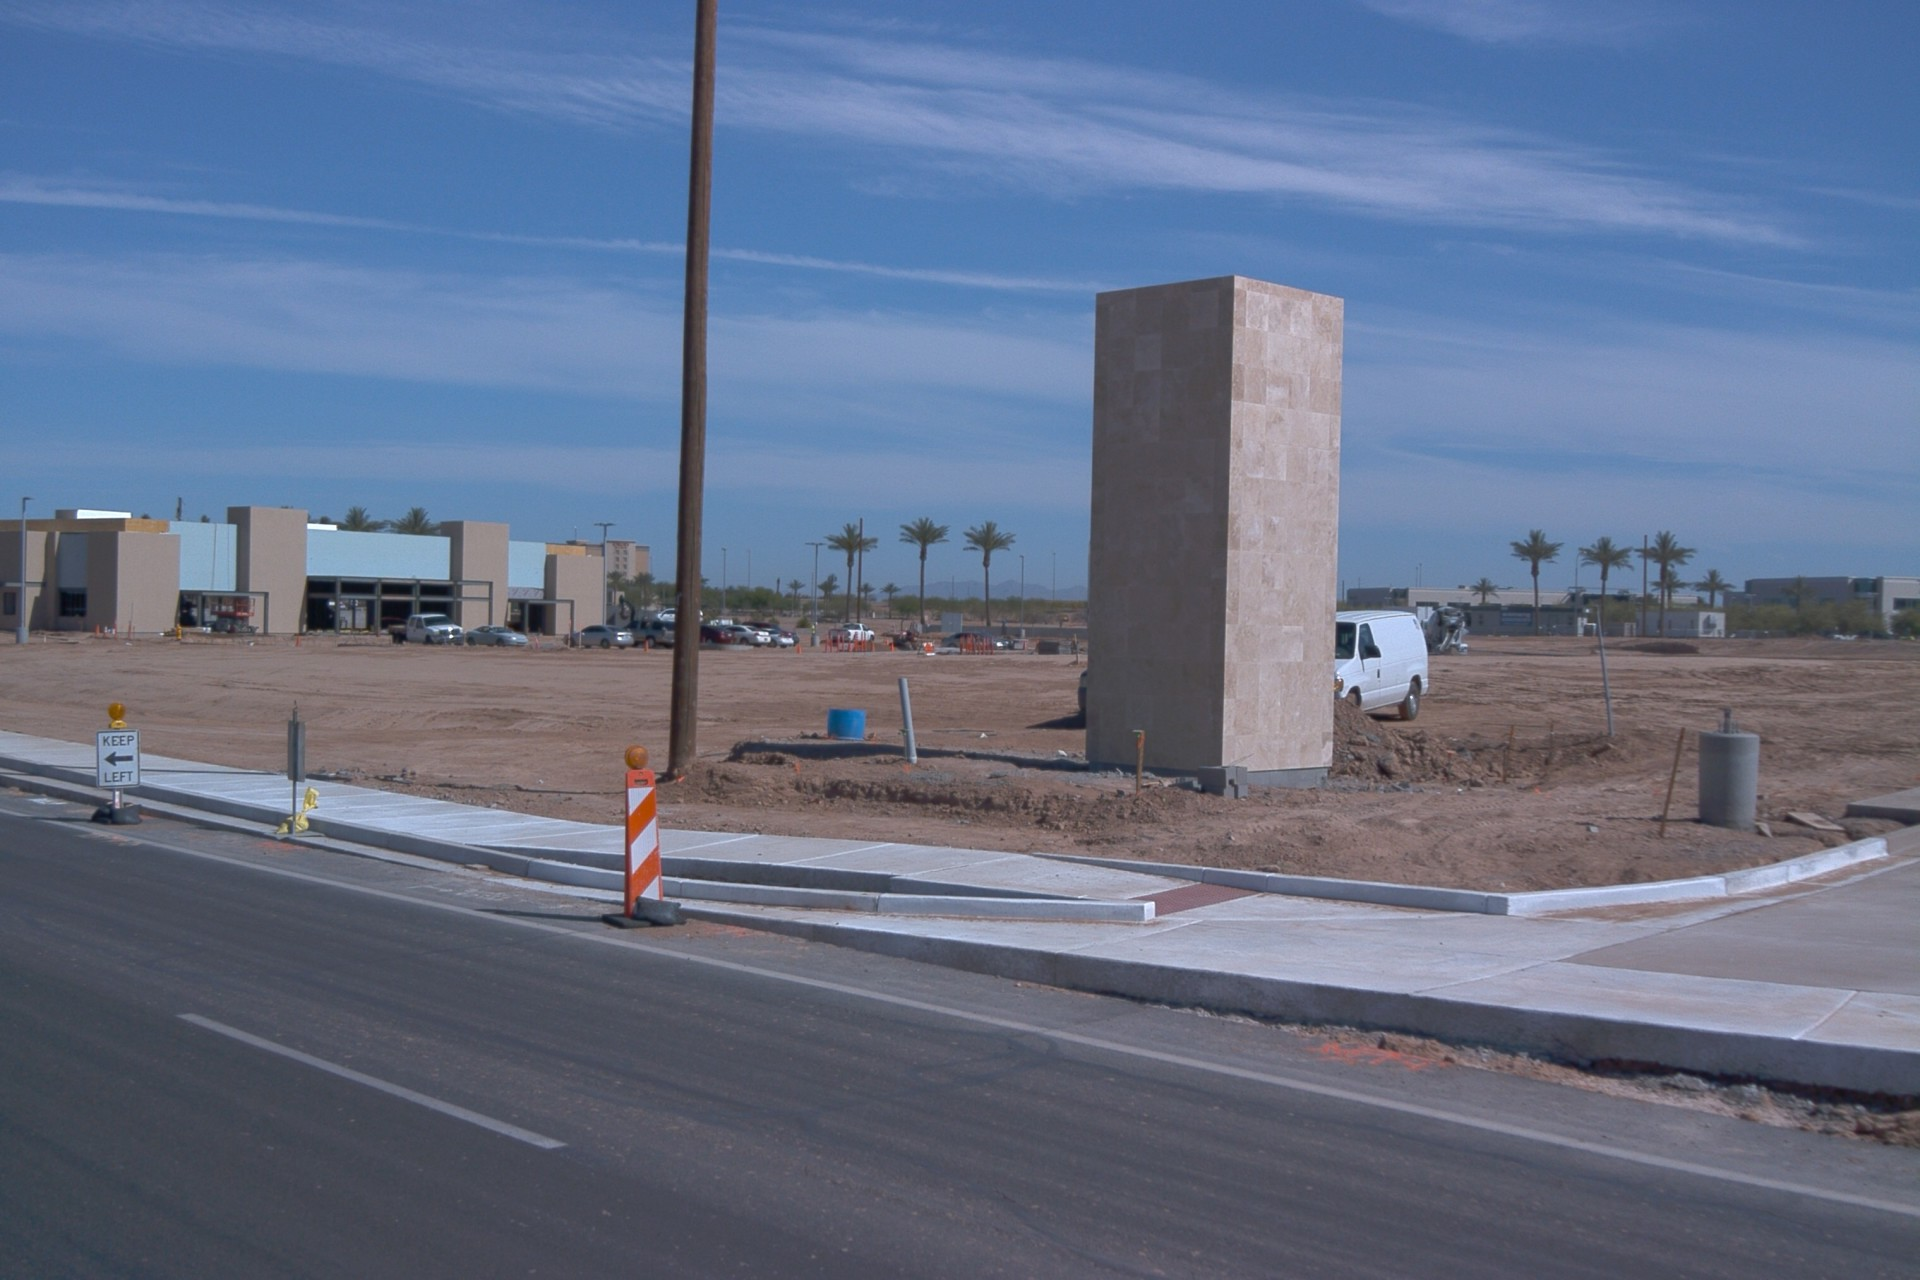TYPE_PEDESTRIAN: (811, 621, 819, 639)
TYPE_VEHICLE: (1333, 607, 1428, 723), (387, 613, 465, 652), (1422, 610, 1472, 662), (618, 617, 675, 657), (562, 624, 637, 652), (936, 629, 1013, 652), (742, 624, 799, 650), (465, 627, 530, 649), (695, 626, 745, 650), (719, 626, 768, 650), (826, 623, 875, 646), (645, 608, 705, 626), (764, 630, 796, 651), (1078, 671, 1086, 721), (708, 619, 734, 629), (1001, 636, 1017, 650), (328, 600, 347, 607)
